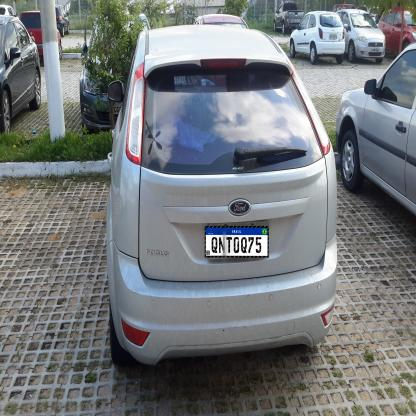PlacaM: (204, 226, 268, 258)
